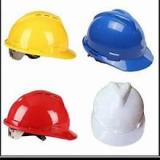Helmet: (83, 7, 155, 72), (3, 9, 78, 65), (4, 89, 80, 144), (90, 81, 145, 147)
